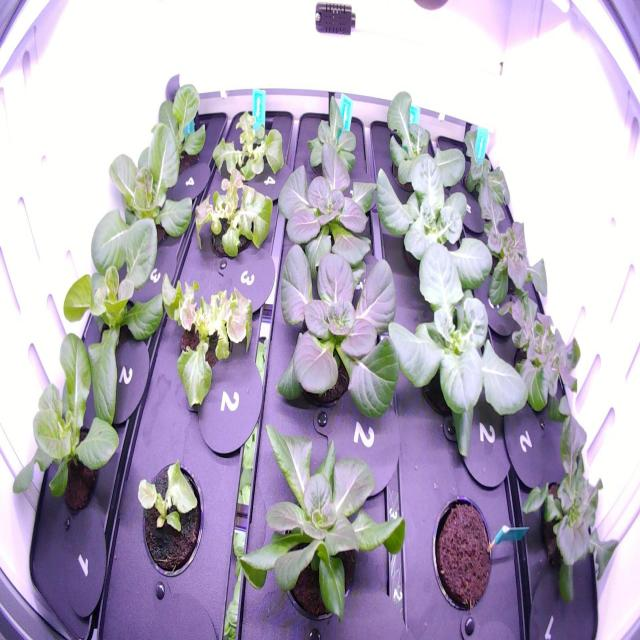pod: (427, 485, 500, 621)
young: (232, 398, 411, 633), (372, 228, 536, 471), (269, 219, 408, 427), (54, 202, 173, 444), (507, 391, 627, 623), (6, 320, 128, 540), (373, 150, 500, 318), (81, 119, 199, 290), (272, 134, 385, 297), (503, 271, 592, 420), (372, 80, 472, 209), (484, 193, 554, 307), (139, 74, 215, 178), (301, 88, 364, 189), (458, 121, 516, 223)
